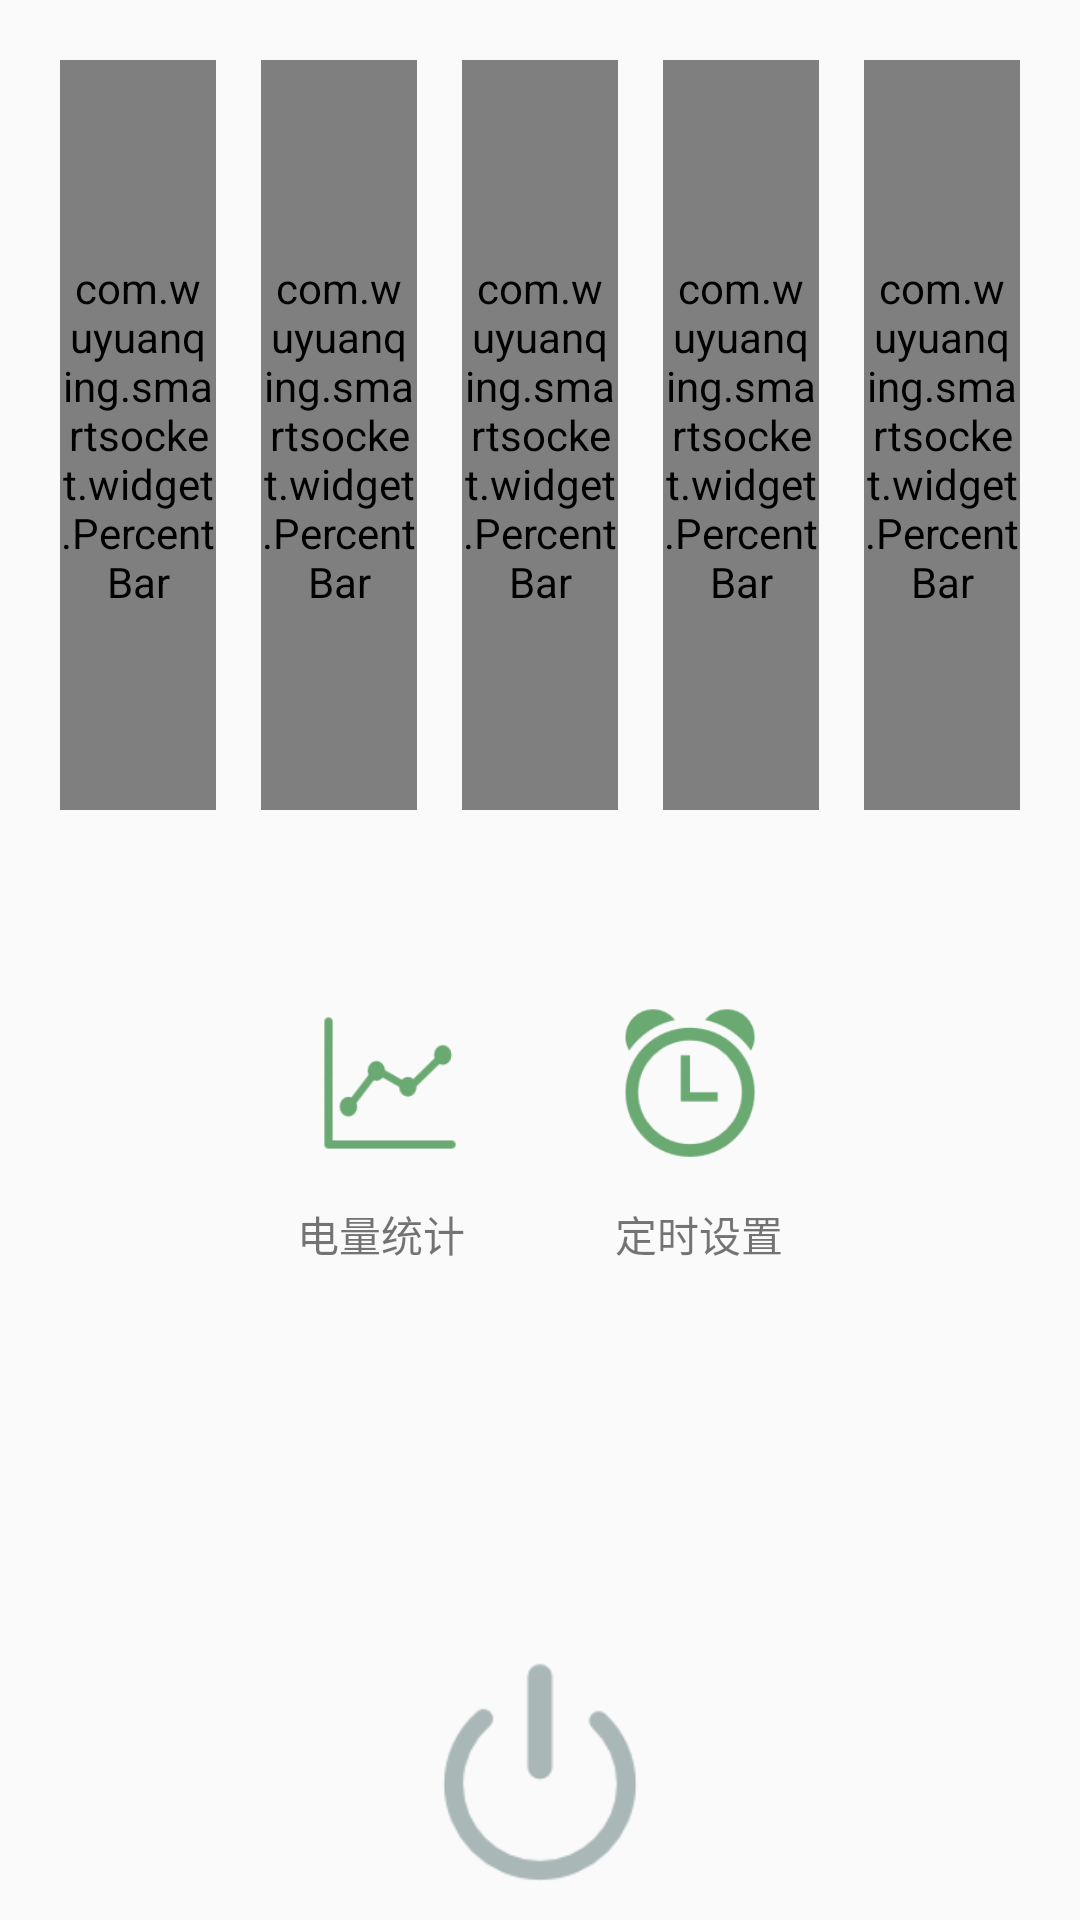

Locate icon controls on the screen. Image size 1080×1920, boxes as (x1, y1, x2, y2).
chart: (324, 1017, 456, 1149)
toggle: (444, 1664, 636, 1880)
watch: (625, 1009, 755, 1157)
